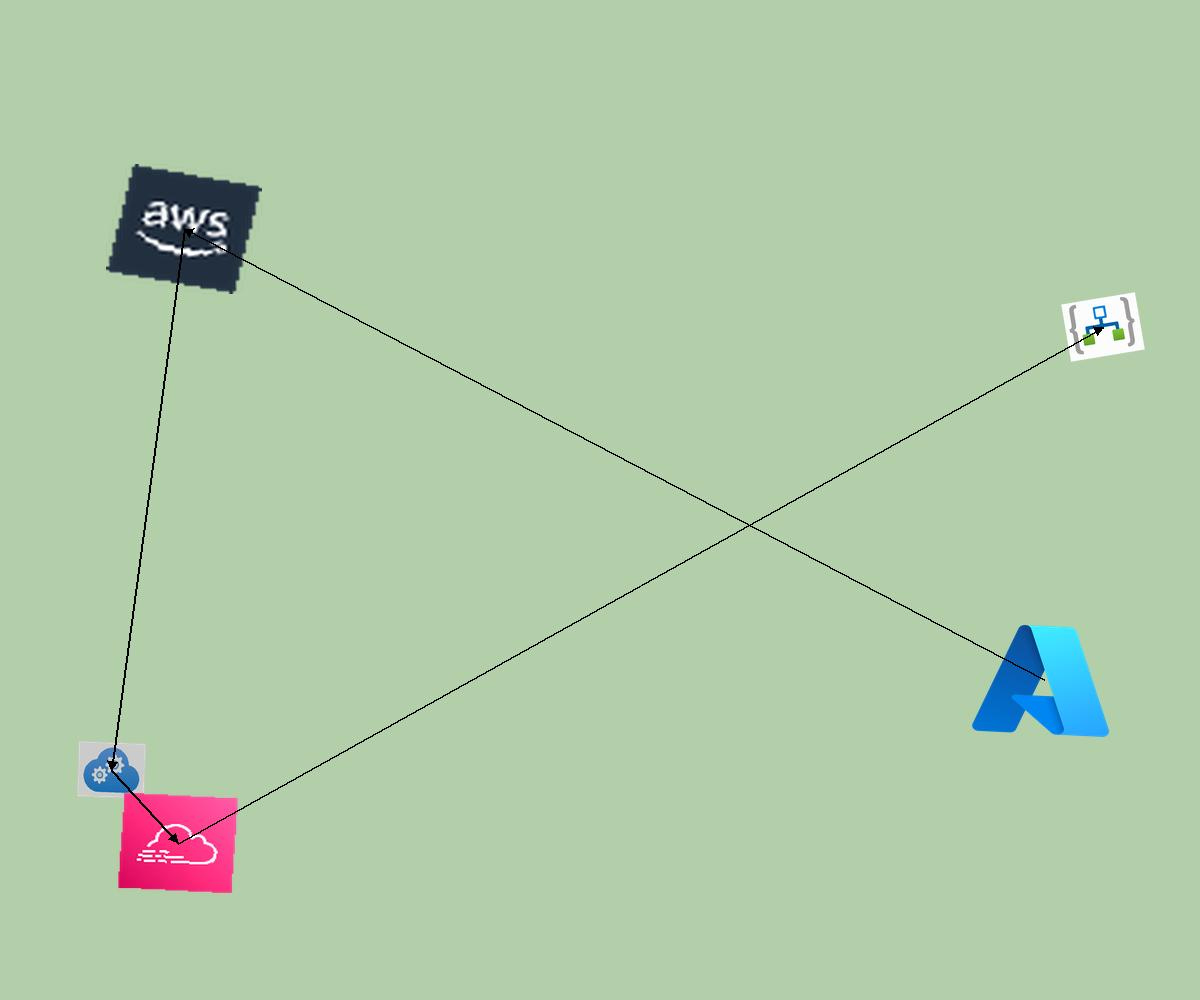AWS-Cloud-logo: (106, 164, 262, 294)
AWS-CloudTrail: (117, 792, 239, 894)
Azure_cloud_services: (77, 741, 146, 799)
Azure_integration-204-Logic-Apps: (1061, 292, 1145, 362)
Azure_services: (965, 614, 1123, 746)
